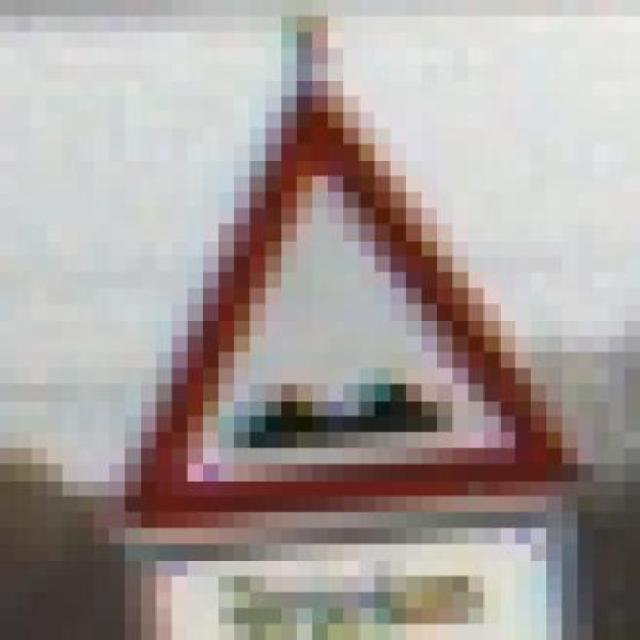Uneven Road: (93, 64, 593, 528)
